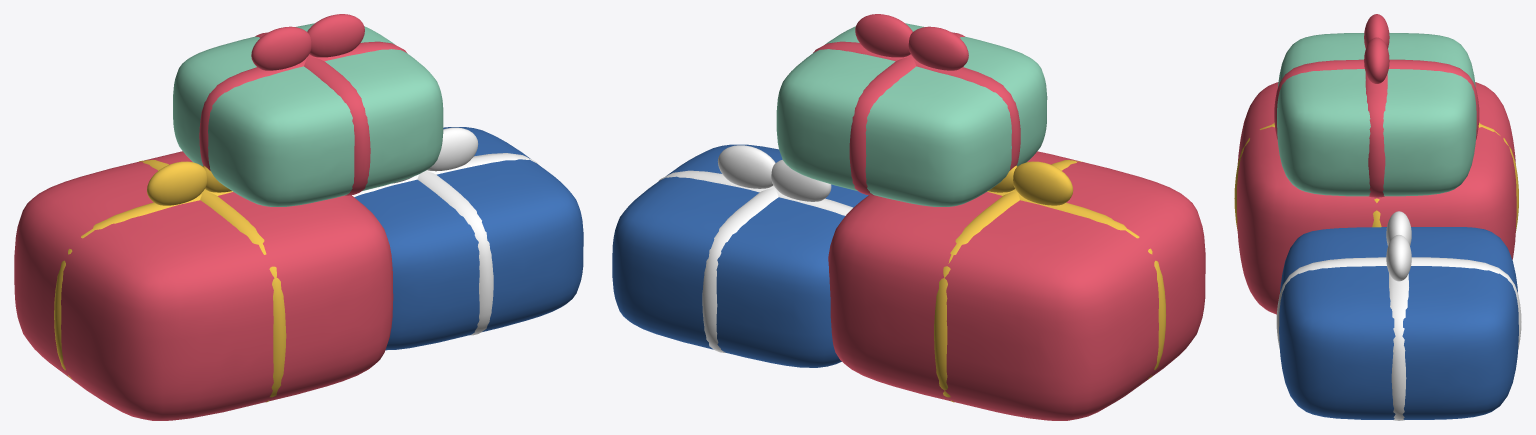
File: deco_regalos.glb
3 views of the same model, side by side, from view 1: azimuth 30°, elevation 25°; view 2: azimuth 150°, elevation 25°; view 3: azimuth 270°, elevation 25° (orthographic). The views are drawn at different scales.
Visible parts, largest first — view 1: regalo 0.001, regalo 2.001, regalo 1.001, cinta a 0.001, cinta a 1.001, cinta a 2.001, moño 0-1.001, moño 2-1.001, cinta b 2.001, moño 21.001, cinta b 0.001, moño 11.001 (+1 smaller); view 2: regalo 0.001, regalo 1.001, regalo 2.001, cinta a 0.001, cinta a 1.001, cinta a 2.001, moño 0-1.001, moño 2-1.001, cinta b 2.001, moño 11.001, moño 21.001, cinta b 0.001 (+2 smaller); view 3: regalo 1.001, regalo 2.001, regalo 0.001, cinta a 1.001, cinta b 2.001, cinta b 1.001, cinta a 2.001, moño 21.001, moño 11.001, moño 1-1.001, moño 2-1.001, cinta a 0.001.
Part boxes in pixels (box(x1,y1,x2,y2)): regalo 0.001: box(14, 151, 393, 420); regalo 2.001: box(173, 23, 443, 206); regalo 1.001: box(354, 127, 583, 350); cinta a 0.001: box(138, 160, 286, 402); cinta a 1.001: box(417, 171, 493, 335); cinta a 2.001: box(255, 32, 370, 195); moño 0-1.001: box(147, 161, 206, 205); moño 2-1.001: box(251, 26, 311, 70); cinta b 2.001: box(199, 41, 407, 170); moño 21.001: box(307, 14, 364, 57); cinta b 0.001: box(54, 190, 232, 378); moño 11.001: box(427, 127, 478, 171); regalo 0.001: box(828, 151, 1205, 420); regalo 1.001: box(612, 144, 868, 367); regalo 2.001: box(776, 23, 1047, 206); cinta a 0.001: box(934, 160, 1082, 402); cinta a 1.001: box(702, 185, 778, 352); cinta a 2.001: box(849, 32, 964, 195); moño 0-1.001: box(1013, 161, 1073, 205); moño 2-1.001: box(908, 26, 968, 70); cinta b 2.001: box(813, 41, 1020, 170); moño 11.001: box(718, 145, 775, 188); moño 21.001: box(855, 14, 912, 57); cinta b 0.001: box(987, 190, 1166, 378); regalo 1.001: box(1279, 227, 1518, 419); regalo 2.001: box(1277, 33, 1476, 196); regalo 0.001: box(1237, 82, 1516, 314); cinta a 1.001: box(1276, 257, 1521, 349); cinta b 2.001: box(1365, 73, 1387, 197); cinta b 1.001: box(1389, 273, 1408, 420); cinta a 2.001: box(1274, 59, 1479, 139); moño 21.001: box(1364, 37, 1389, 83); moño 11.001: box(1386, 235, 1411, 281); moño 1-1.001: box(1386, 211, 1411, 245); moño 2-1.001: box(1364, 14, 1389, 48); cinta a 0.001: box(1234, 123, 1518, 232).
Size of the model in its own units: 0.4842 by 0.2967 by 0.2584.
